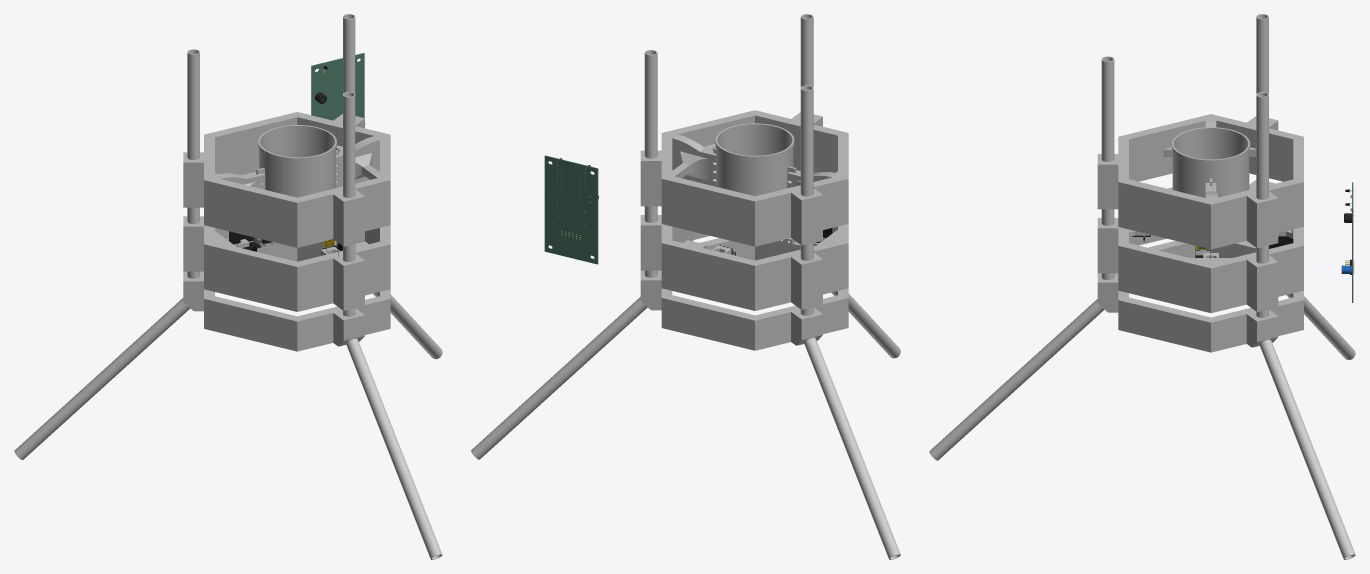
The model's file is EDFAsembly.obj.
3 views of the same model, side by side, from view 1: azimuth 30°, elevation 25°; view 2: azimuth 150°, elevation 25°; view 3: azimuth 270°, elevation 25° (orthographic).
Parts seen in each view (by area): view 1: Solid1:5, Solid1, Solid1:1, Solid3, Solid1:3, Solid1:4, Solid13, Solid1:8, Solid1:7, Solid1:6, Solid1:2; view 2: Solid1:5, Solid1, Solid1:1, Solid13, Solid3, Solid1:4, Solid1:2, Solid1:8, Solid1:6, Solid1:7, Solid1:3; view 3: Solid1:5, Solid1, Solid1:1, Solid3, Solid1:2, Solid1:3, Solid1:7, Solid1:6, Solid1:8, Solid1:4.
Boxes of the visible parts, x1=… form: Solid1:5: x1=183, y1=112, x2=390, y2=247; Solid1: x1=183, y1=216, x2=390, y2=311; Solid1:1: x1=183, y1=241, x2=390, y2=351; Solid3: x1=256, y1=125, x2=338, y2=197; Solid1:3: x1=346, y1=338, x2=442, y2=559; Solid1:4: x1=14, y1=298, x2=190, y2=459; Solid13: x1=311, y1=53, x2=364, y2=120; Solid1:8: x1=187, y1=49, x2=199, y2=278; Solid1:7: x1=343, y1=92, x2=355, y2=316; Solid1:6: x1=343, y1=14, x2=355, y2=93; Solid1:2: x1=373, y1=292, x2=442, y2=359; Solid1:5: x1=640, y1=110, x2=848, y2=246; Solid1: x1=640, y1=215, x2=848, y2=310; Solid1:1: x1=640, y1=238, x2=848, y2=350; Solid13: x1=544, y1=155, x2=598, y2=264; Solid3: x1=713, y1=123, x2=796, y2=196; Solid1:4: x1=804, y1=337, x2=900, y2=559; Solid1:2: x1=471, y1=297, x2=647, y2=459; Solid1:8: x1=800, y1=85, x2=813, y2=315; Solid1:6: x1=644, y1=50, x2=657, y2=277; Solid1:7: x1=800, y1=14, x2=813, y2=87; Solid1:3: x1=831, y1=291, x2=900, y2=358; Solid1:5: x1=1097, y1=114, x2=1303, y2=249; Solid1: x1=1097, y1=180, x2=1303, y2=313; Solid1:1: x1=1097, y1=241, x2=1303, y2=352; Solid3: x1=1172, y1=127, x2=1249, y2=197; Solid1:2: x1=1259, y1=339, x2=1355, y2=559; Solid1:3: x1=929, y1=299, x2=1104, y2=460; Solid1:7: x1=1101, y1=56, x2=1114, y2=279; Solid1:6: x1=1256, y1=92, x2=1268, y2=317; Solid1:8: x1=1256, y1=14, x2=1268, y2=93; Solid1:4: x1=1286, y1=293, x2=1355, y2=360.
Size of the model in its own units: 23.4 by 21.36 by 20.36.
